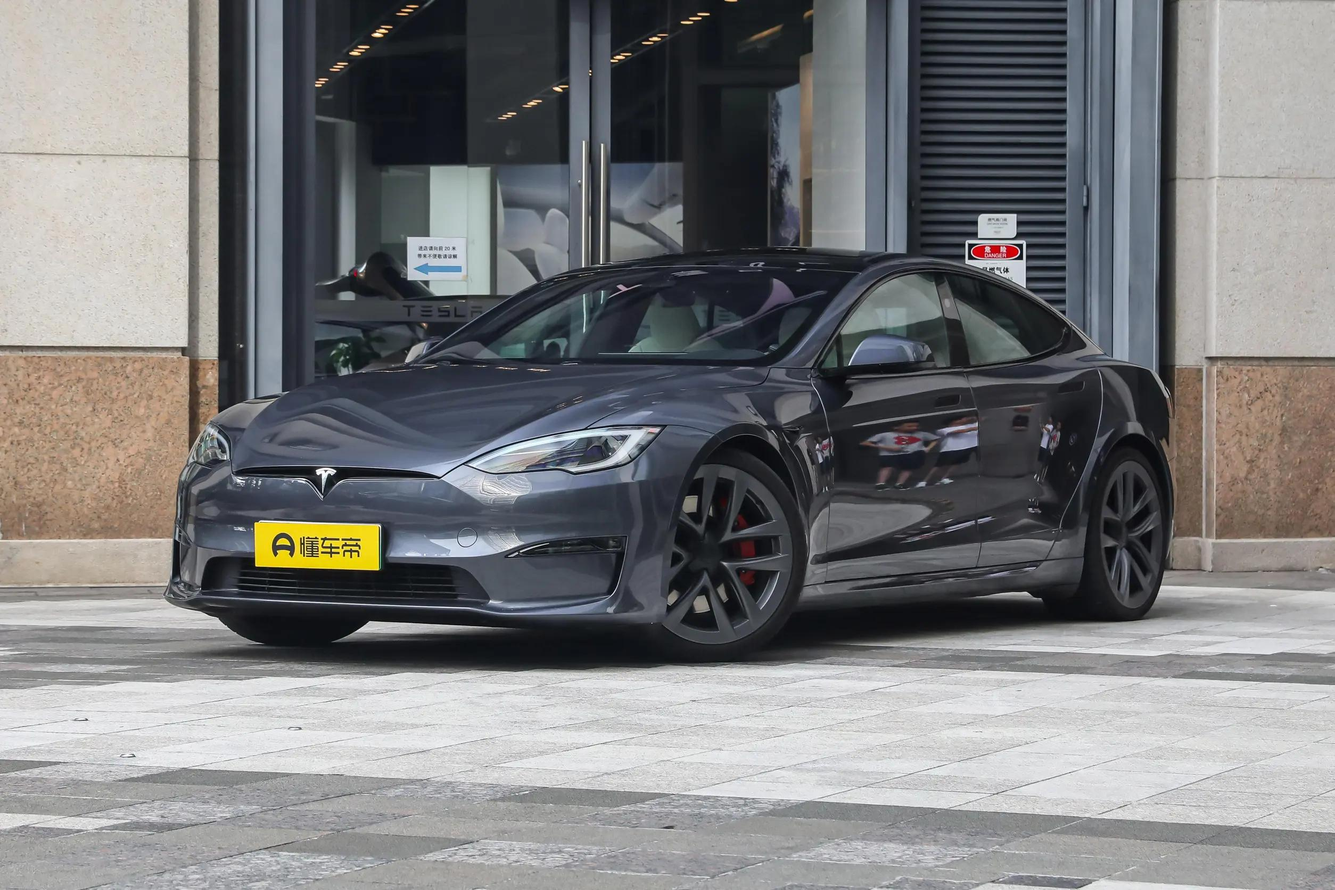Tesla: (315, 467, 336, 494)
